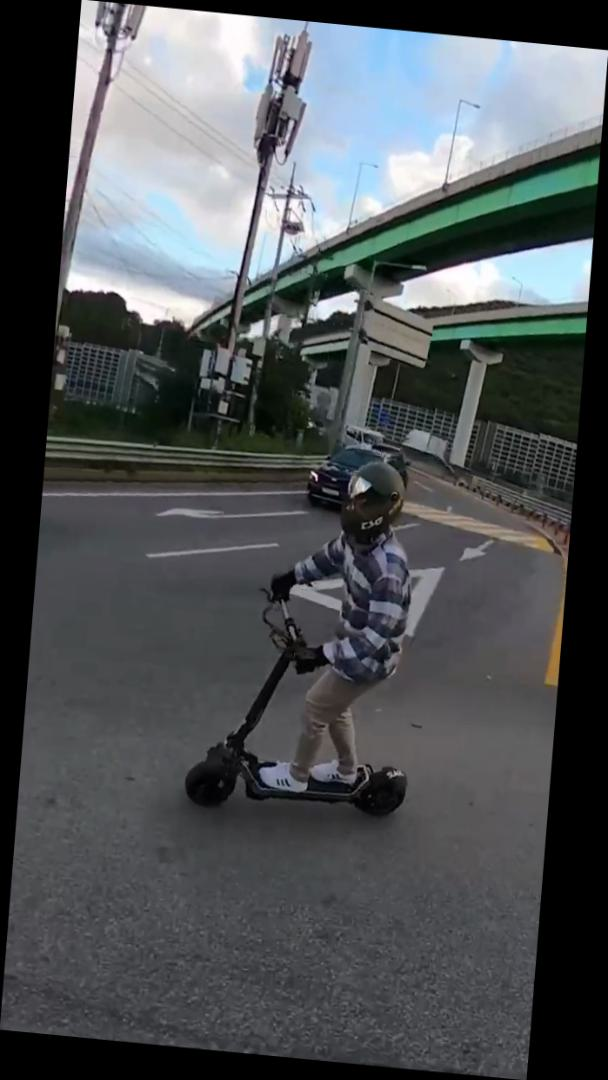helmet: (179, 444, 436, 828)
